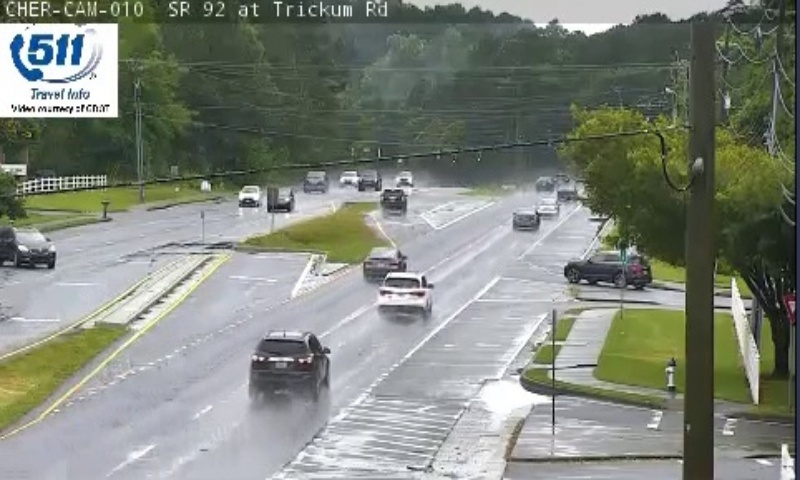car: (250, 332, 325, 389), (376, 272, 431, 312), (363, 247, 406, 281), (382, 187, 406, 211), (514, 208, 539, 230)
